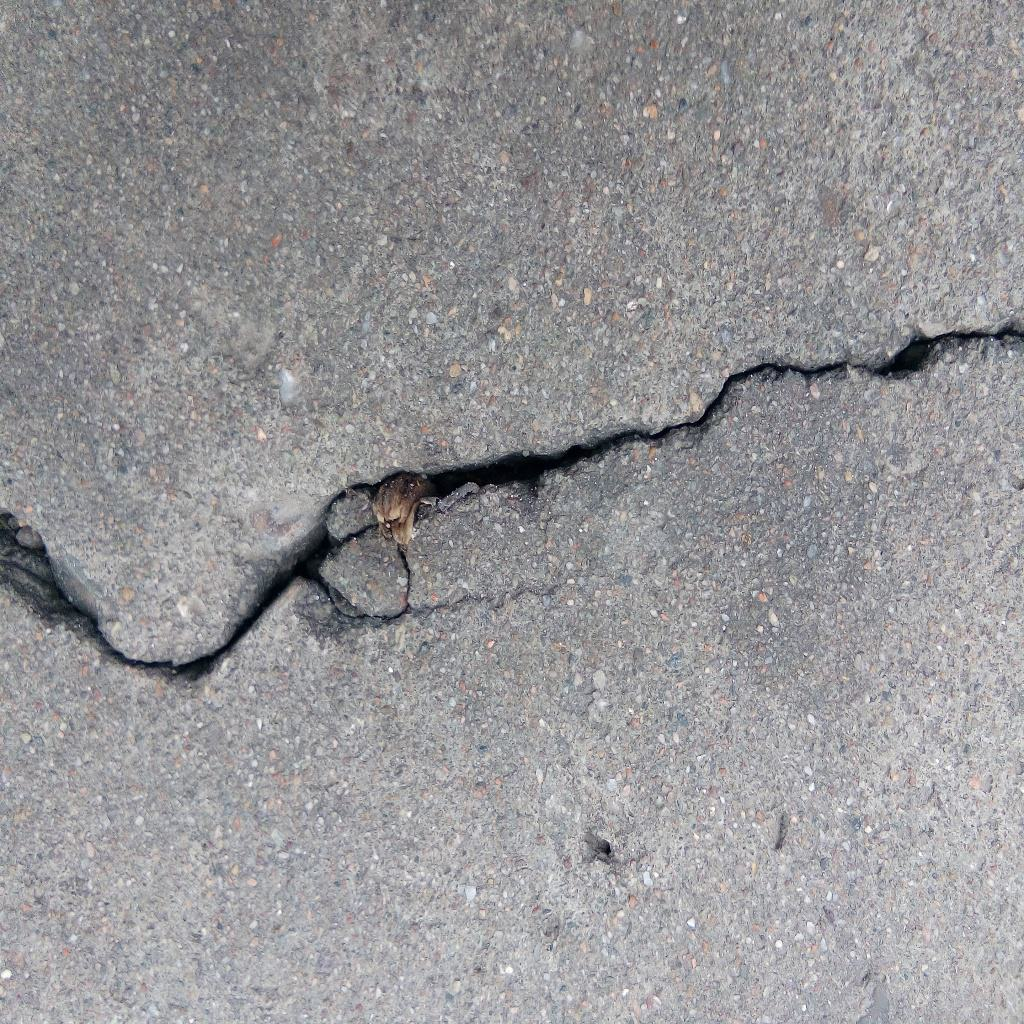Crack: (1, 325, 1024, 685)
